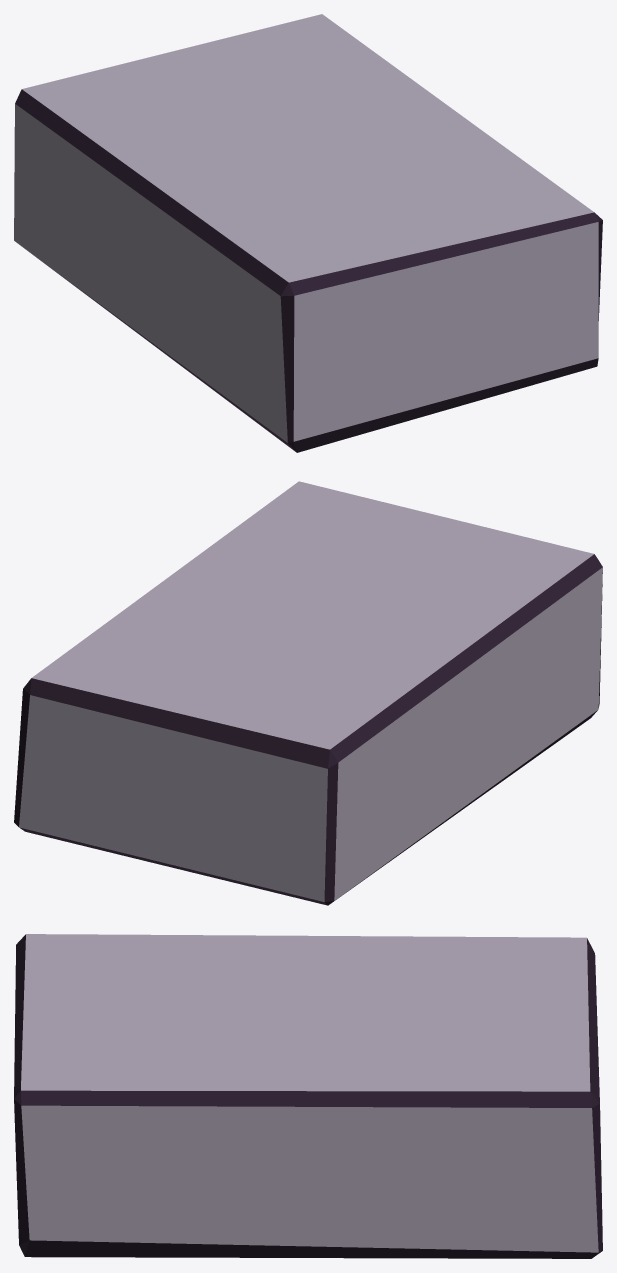
The model's file is Ladrillo.fbx.
3 views of the same model, one above another, from view 1: azimuth 30°, elevation 25°; view 2: azimuth 150°, elevation 25°; view 3: azimuth 270°, elevation 25° (orthographic). The views are drawn at different scales.
Visible parts, largest first — view 1: Ladrillo_gris; view 2: Ladrillo_gris; view 3: Ladrillo_gris.
Part boxes in pixels (x1,y1,x2,y2): Ladrillo_gris: (14,14,602,452); Ladrillo_gris: (14,481,602,905); Ladrillo_gris: (14,934,602,1258).
Bounding box in the file's own units: 20 × 10 × 30.
Materials: 1 (1 with a texture image).
